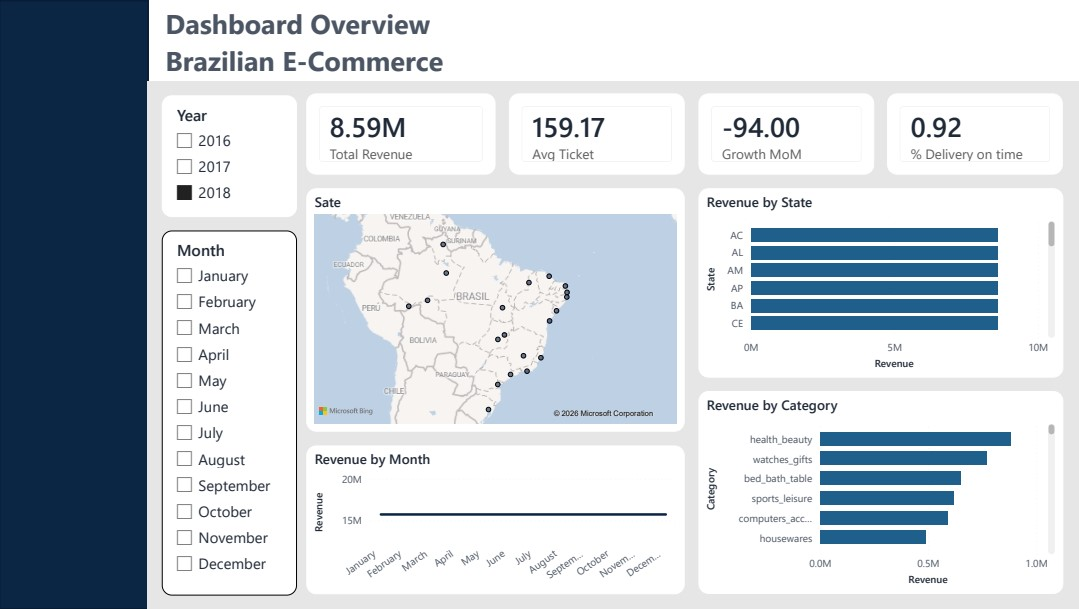

This screenshot's page, from the dashboard's own definition file:
{"tool":"powerbi","page":{"name":"Page 1","canvas":[1280,720],"ordinal":0},"visuals":[{"type":"textbox","box":[176,0,1104,96],"z":0},{"type":"shape","box":[0,0,176,720],"z":1000},{"type":"shape","box":[176,96,1104,624],"z":2000},{"type":"cardVisual","fields":{"Data":["gold_delivery_performance.Revenue Total"]},"box":[363.3,110.2,224,96],"z":3000},{"type":"cardVisual","fields":{"Data":["gold_delivery_performance.% Pedidos a Tiempo"]},"box":[1051.3,110.2,208,96],"z":4000},{"type":"cardVisual","fields":{"Data":["gold_delivery_performance.Ticket Promedio"]},"box":[603.3,110.2,208,96],"z":5000},{"type":"cardVisual","fields":{"Data":["gold_delivery_performance.Crecimiento MoM"]},"box":[827.3,110.2,208,96],"z":6000},{"type":"barChart","fields":{"Y":["Sum(gold_sales_monthly.revenue)"],"Category":["gold_sales_monthly.category"]},"box":[827.3,462.2,432,240],"z":7000},{"type":"map","title":"Sate","fields":{"Category":["gold_delivery_performance.customer_state"]},"box":[363.3,222.2,448,288],"z":8000},{"type":"slicer","fields":{"Values":["gold_sales_monthly.order_month.Variation.Date Hierarchy.Month"]},"box":[192,272,160,432],"z":9000},{"type":"slicer","fields":{"Values":["gold_sales_monthly.order_month.Variation.Date Hierarchy.Year"]},"box":[192,112,160,144],"z":10000},{"type":"barChart","fields":{"Y":["Sum(gold_sales_monthly.revenue)"],"Category":["gold_delivery_performance.customer_state"]},"box":[827.3,222.2,432,224],"z":11000},{"type":"lineChart","fields":{"Category":["gold_sales_monthly.order_month.Variation.Date Hierarchy.Month"],"Y":["Sum(gold_geo_concentration.revenue)"]},"box":[363.3,526.2,448,176],"z":12000}]}

Visuals, with their boxes in screenshot pixels (x1, y1, x2, y2), scaled from the page's 1280x720 canvas onto the 1079x609 screenshot:
textbox: [148, 0, 1078, 81]
shape: [0, 0, 148, 608]
shape: [148, 81, 1078, 608]
cardVisual - gold_delivery_performance.Revenue Total: [306, 93, 495, 174]
cardVisual - gold_delivery_performance.% Pedidos a Tiempo: [886, 93, 1062, 174]
cardVisual - gold_delivery_performance.Ticket Promedio: [509, 93, 684, 174]
cardVisual - gold_delivery_performance.Crecimiento MoM: [697, 93, 873, 174]
barChart - Sum(gold_sales_monthly.revenue) x gold_sales_monthly.category: [697, 391, 1062, 594]
"Sate" map: [306, 188, 684, 432]
slicer - gold_sales_monthly.order_month.Variation.Date Hierarchy.Month: [162, 230, 297, 595]
slicer - gold_sales_monthly.order_month.Variation.Date Hierarchy.Year: [162, 95, 297, 217]
barChart - Sum(gold_sales_monthly.revenue) x gold_delivery_performance.customer_state: [697, 188, 1062, 377]
lineChart - gold_sales_monthly.order_month.Variation.Date Hierarchy.Month x Sum(gold_geo_concentration.revenue): [306, 445, 684, 594]
